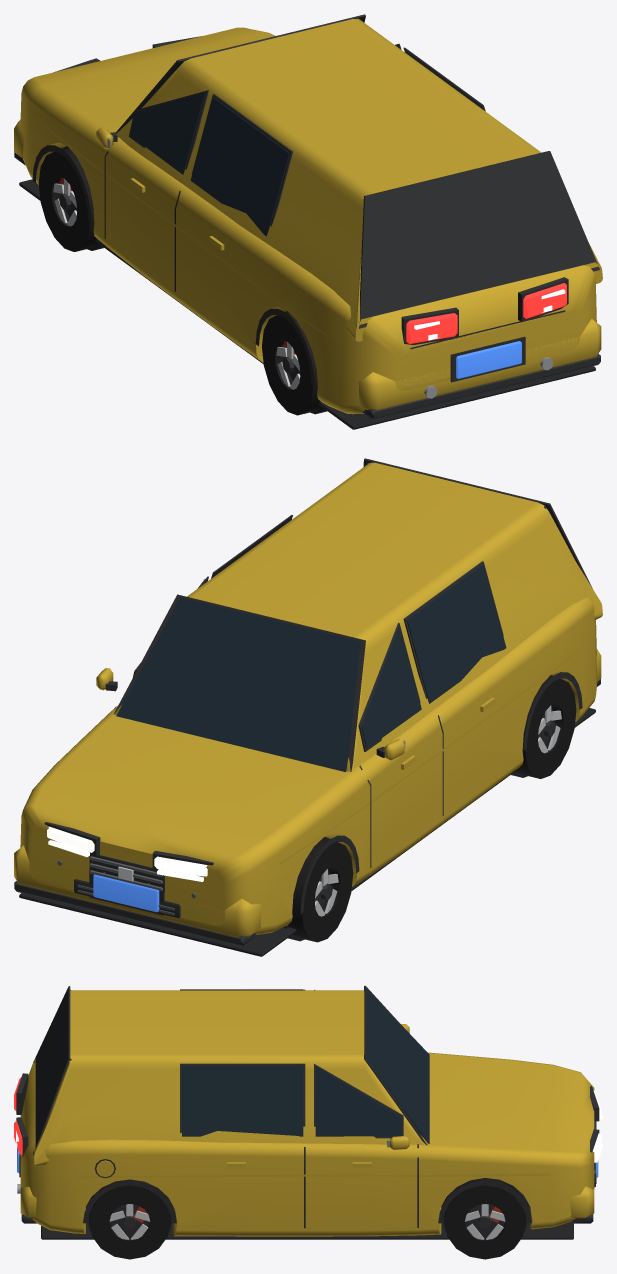
The model's file is car_hatchback_city_yellow.glb.
3 renders of one model, top to bottom at view 1: azimuth 30°, elevation 25°; view 2: azimuth 150°, elevation 25°; view 3: azimuth 270°, elevation 25°, orthographic. The views are drawn at different scales.
Parts seen in each view (by area): view 1: Body, Trim, Glass, Wheel_FL, Wheel_RL, Lights, Plate_R; view 2: Body, Glass, Trim, Wheel_FL, Wheel_RL, Lights, Plate_F; view 3: Body, Glass, Trim, Wheel_FR, Wheel_RR, Lights.
Boxes of the visible parts, x1,y1,x2,y2 form: Body: (14, 18, 602, 414); Trim: (14, 14, 600, 429); Glass: (107, 18, 361, 236); Wheel_FL: (38, 148, 98, 251); Wheel_RL: (262, 312, 322, 415); Lights: (406, 283, 566, 343); Plate_R: (456, 341, 521, 378); Body: (14, 462, 602, 937); Glass: (109, 462, 547, 771); Trim: (14, 458, 600, 956); Wheel_FL: (287, 838, 353, 942); Wheel_RL: (516, 676, 576, 778); Lights: (47, 826, 207, 881); Plate_F: (93, 874, 159, 912); Body: (20, 990, 594, 1236); Glass: (65, 988, 429, 1147); Trim: (16, 985, 599, 1239); Wheel_FR: (444, 1178, 526, 1259); Wheel_RR: (89, 1179, 170, 1259); Lights: (14, 1077, 602, 1162).
Size of the model in its own units: 2.04 by 1.52 by 4.31.
